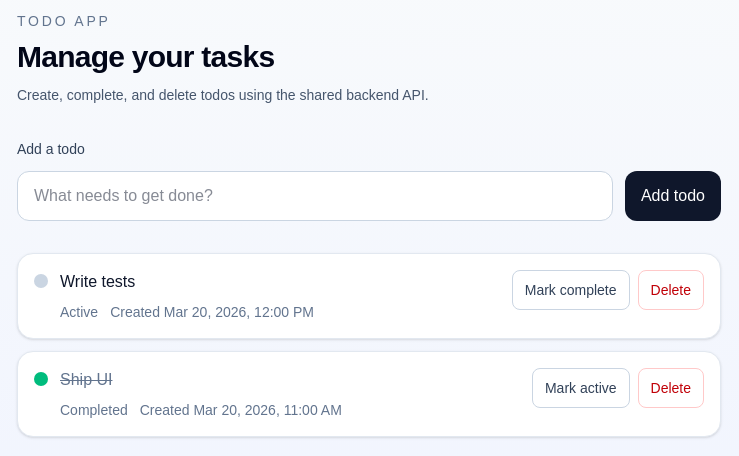
Test case: TodoApp › optimistically toggles todo completion before API responds
expect the text "Write tests" is shown: met, box [60,273,135,290]
Click the button "Mark complete". click: (571, 290)
box: [512,270,630,310]
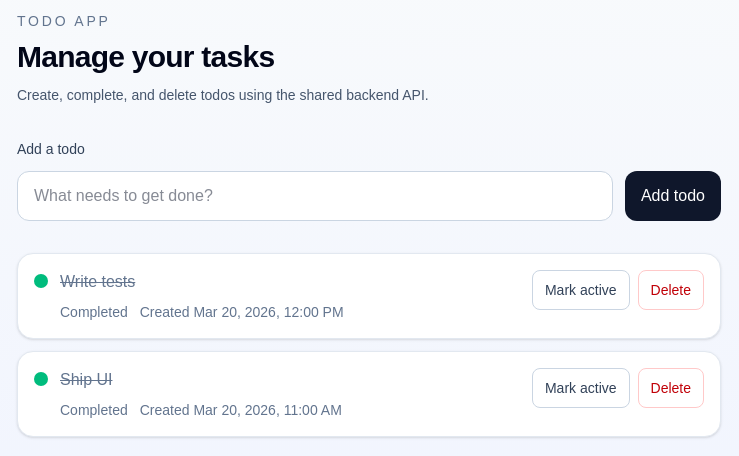
expect the number of buttons "Mark active" is 2: met, box [532,270,630,310]; [532,368,630,408]
expect the button "Mark complete" is gone: met
